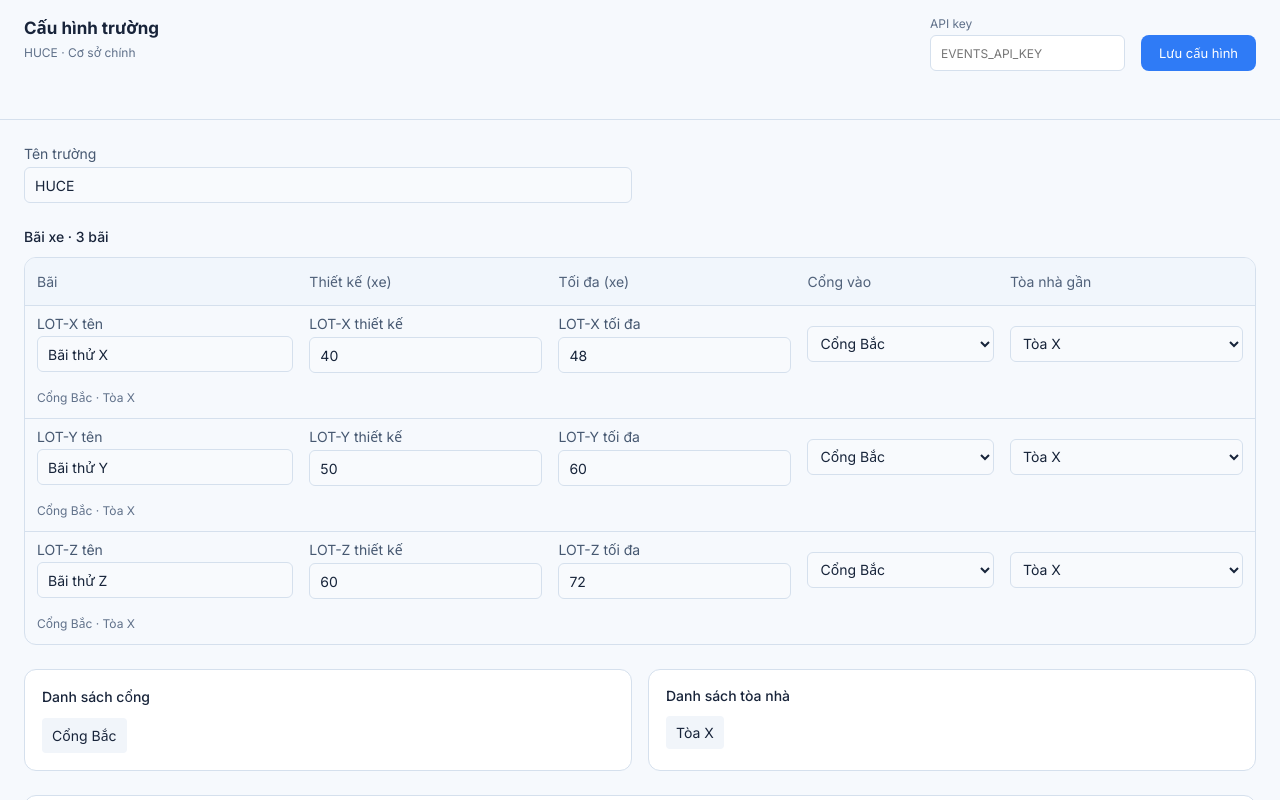
Test case: SettingsPage › keeps edited values and reports a save error
This screenshot has width=1280, height=800.
Step 1. Replace the text in the field showing "Bãi thử X" with "Bãi thử đã sửa" → [165, 354], box left=37, top=336, right=293, bottom=372
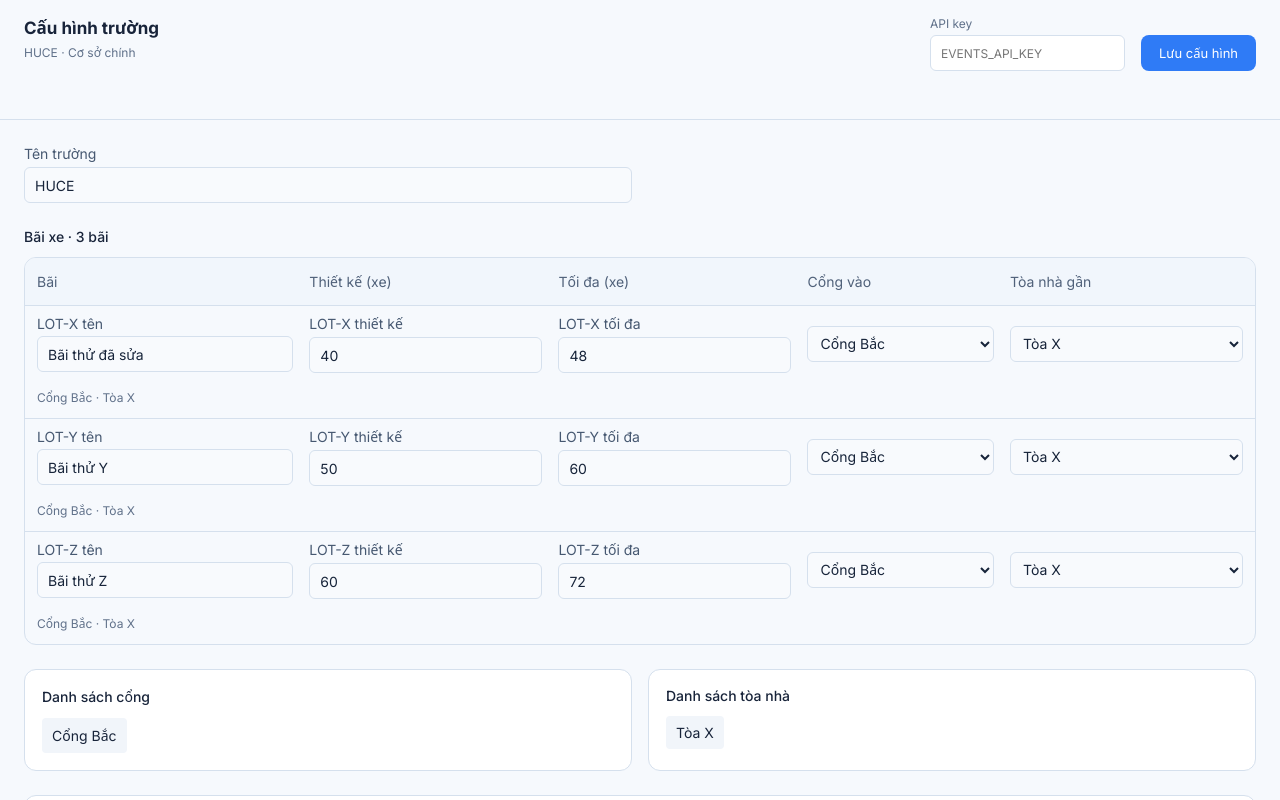
Step 2. Type "SIMULATOR" into the password field labelled "API key" → [1028, 53], box left=930, top=35, right=1125, bottom=71
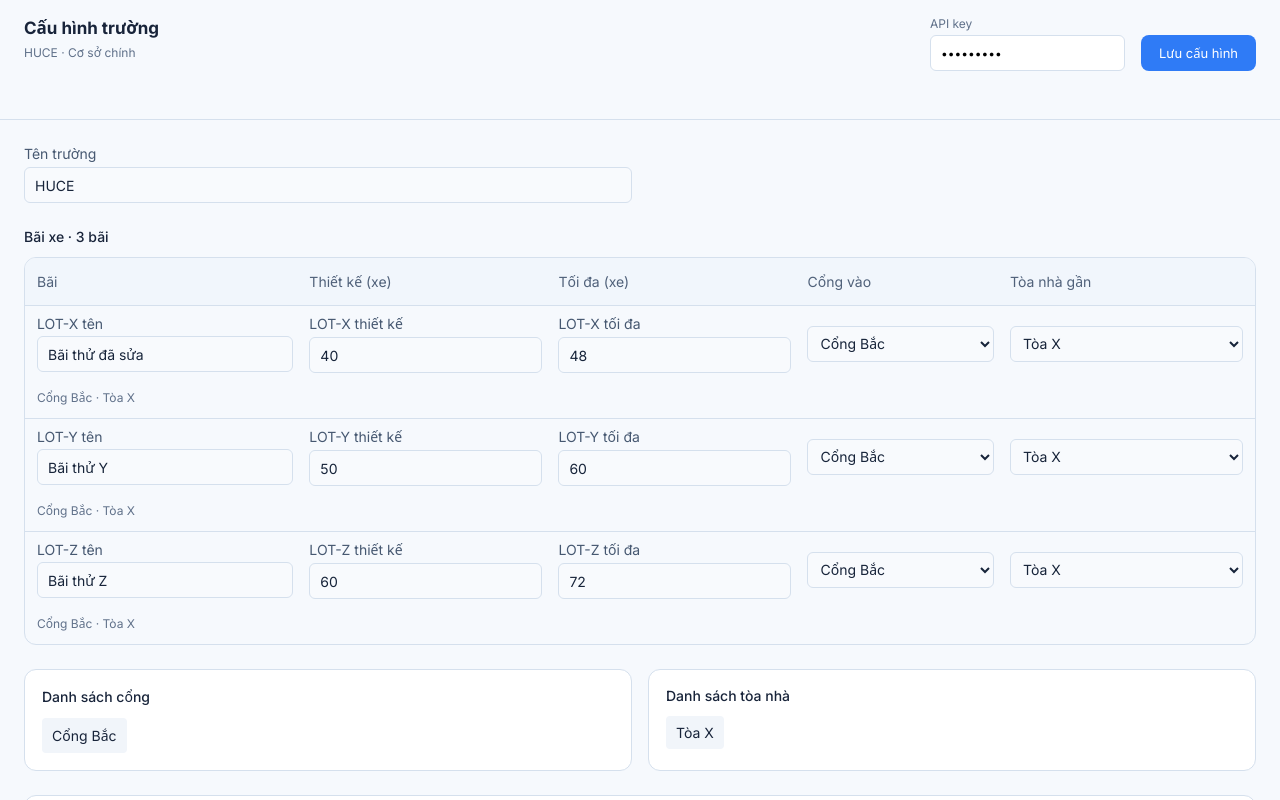
Step 3. Click the button "Lưu cấu hình" → [1198, 53], box left=1141, top=35, right=1256, bottom=71
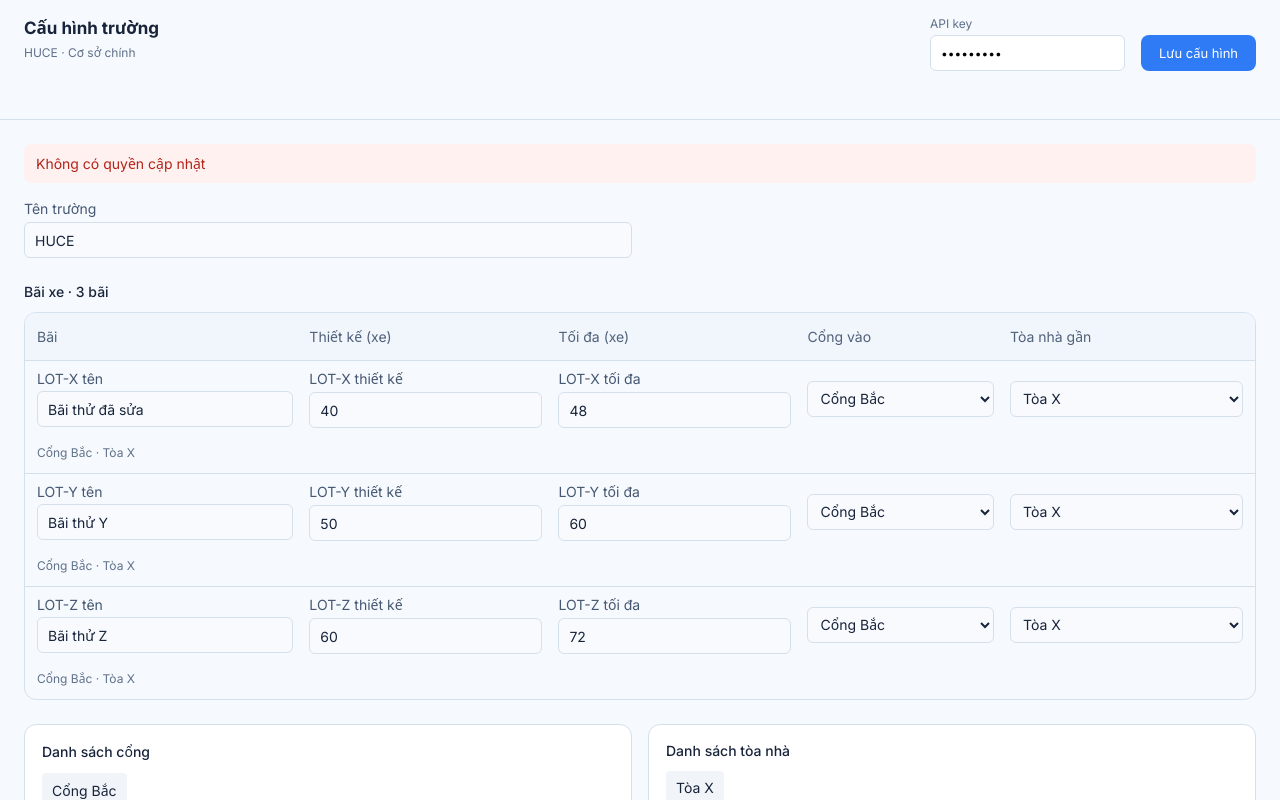
expect the message reads "Không có quyền cập nhật": met, box left=36, top=155, right=205, bottom=172
